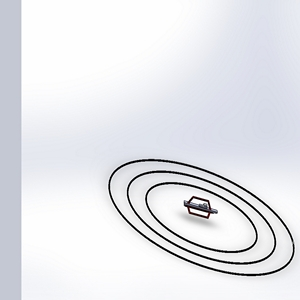circle: (106, 153, 300, 284)
submarine: (176, 188, 222, 231)
